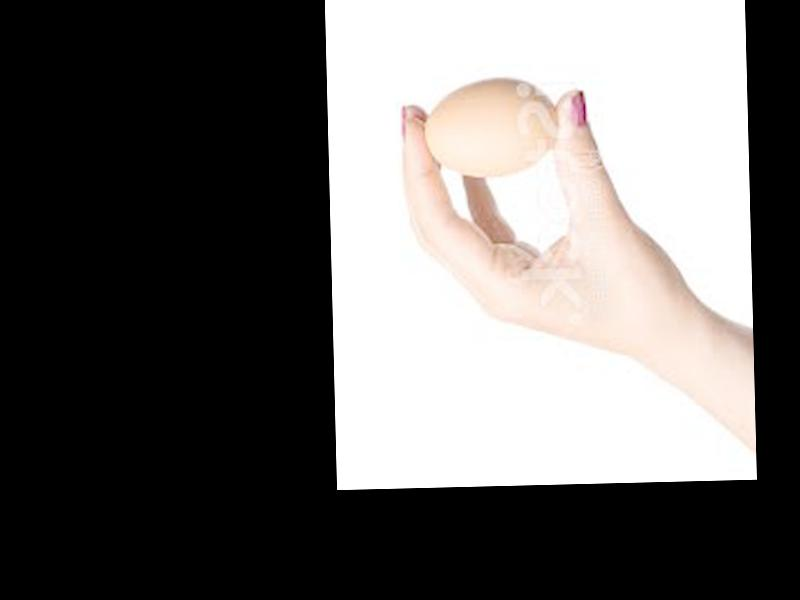Eggs: (424, 80, 560, 176)
